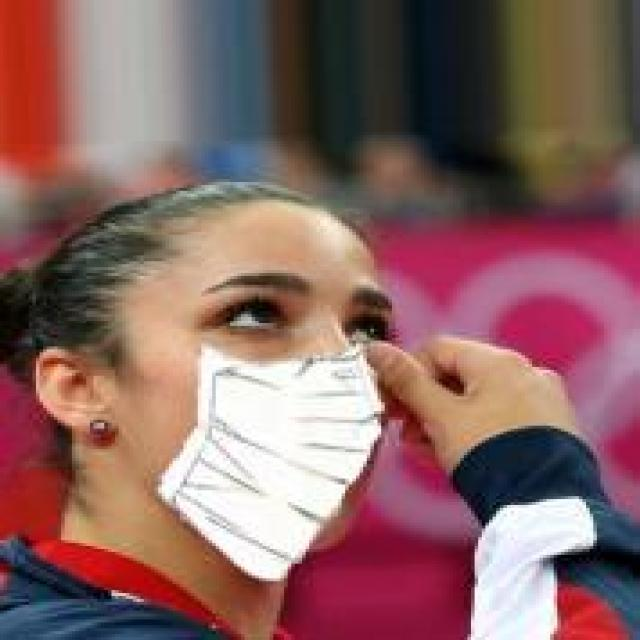mask: (22, 114, 489, 564)
